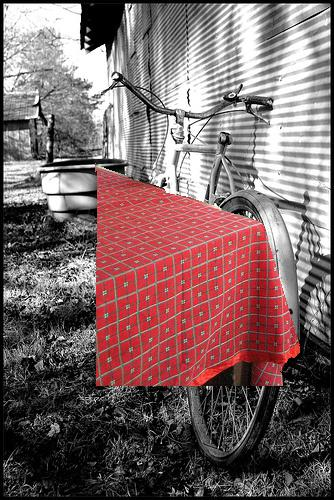tampered: (96, 164, 300, 386)
